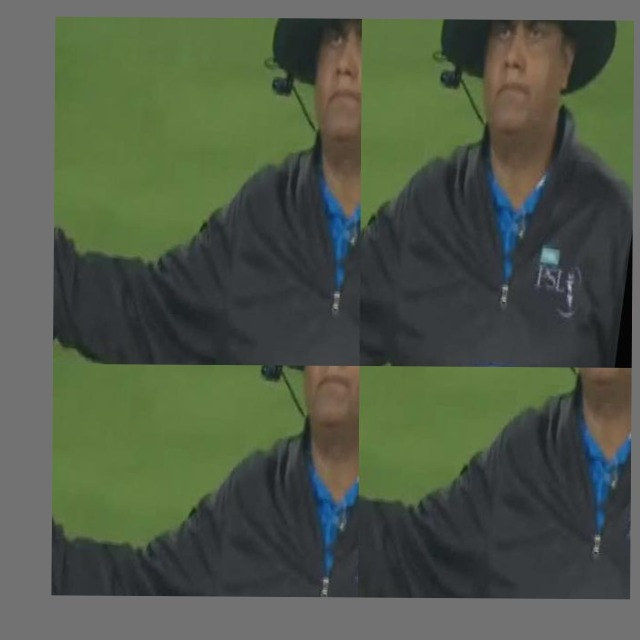No_Action: (360, 19, 503, 295)
No_Ball: (358, 366, 632, 599)
Out: (51, 364, 140, 596)
Six: (160, 17, 362, 366)
